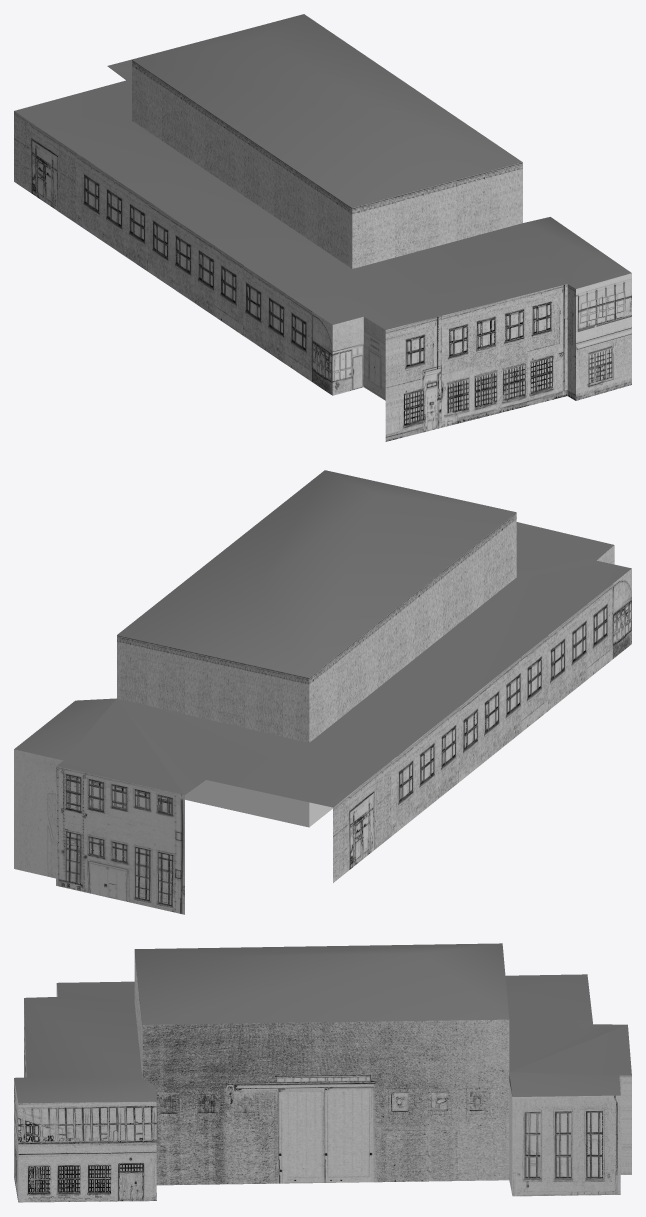
The model's file is Binder-Bau.gltf.
3 renders of one model, top to bottom at view 1: azimuth 30°, elevation 25°; view 2: azimuth 150°, elevation 25°; view 3: azimuth 270°, elevation 25°, orthographic. The views are drawn at different scales.
Visible parts, largest first — view 1: Dach.1; view 2: Dach.1; view 3: Dach.1.
Boxes of the visible parts, bbox=[...] form: Dach.1: bbox=[14, 14, 631, 441]; Dach.1: bbox=[14, 470, 631, 914]; Dach.1: bbox=[14, 943, 631, 1202].
Bounding box in the file's own units: 37.82 × 26 × 76.68.
Materials: 16 (15 with a texture image).
